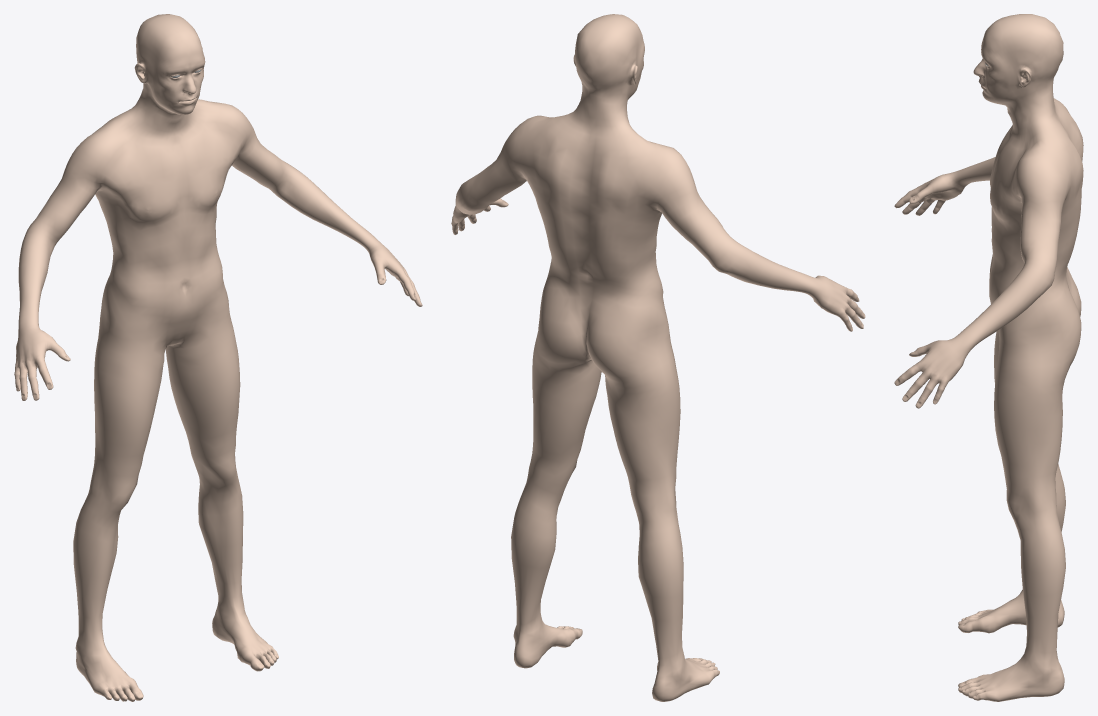
Rendered from emojiDAE.dae.
3 views of the same model, side by side, from view 1: azimuth 30°, elevation 25°; view 2: azimuth 150°, elevation 25°; view 3: azimuth 270°, elevation 25° (orthographic).
Parts seen in each view (by area): view 1: anatomie-base; view 2: anatomie-base; view 3: anatomie-base.
Boxes of the visible parts, x1=… form: anatomie-base: x1=14, y1=14, x2=422, y2=701; anatomie-base: x1=451, y1=14, x2=865, y2=701; anatomie-base: x1=894, y1=14, x2=1083, y2=701.
Size of the model in its own units: 3.78 by 1.56 by 5.85.
